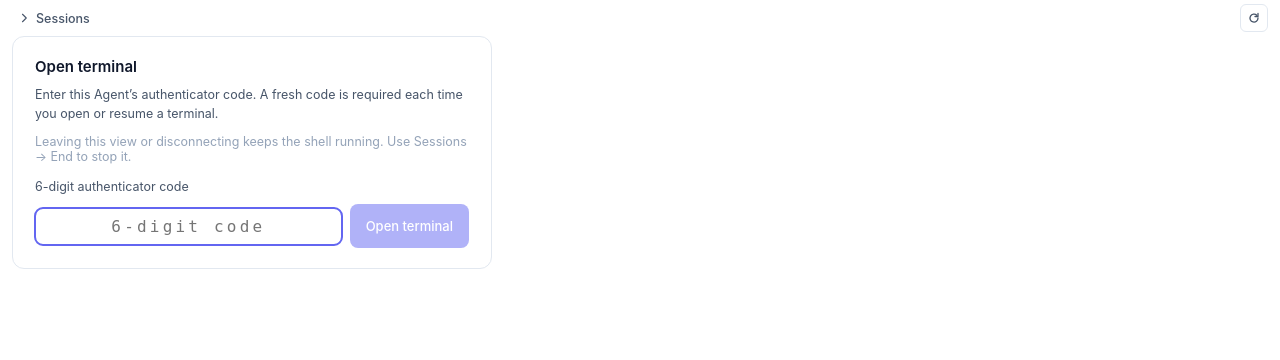
Terminal session recovery › reports an unconfirmed End without pretending the shell was stopped
Click the button "Sessions": [63, 18] box x1=12 y1=6 x2=1236 y2=30
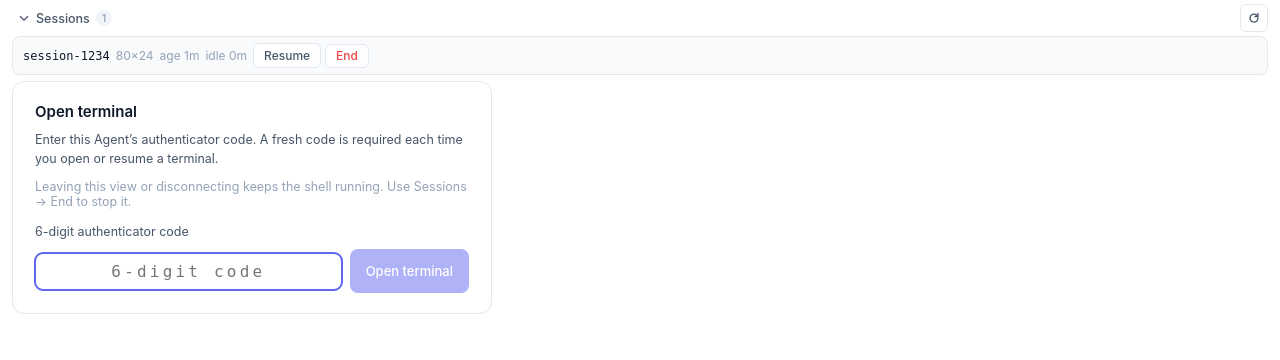
Result: the button "End" is shown
Click the button "End": [347, 56] box x1=325 y1=44 x2=369 y2=68
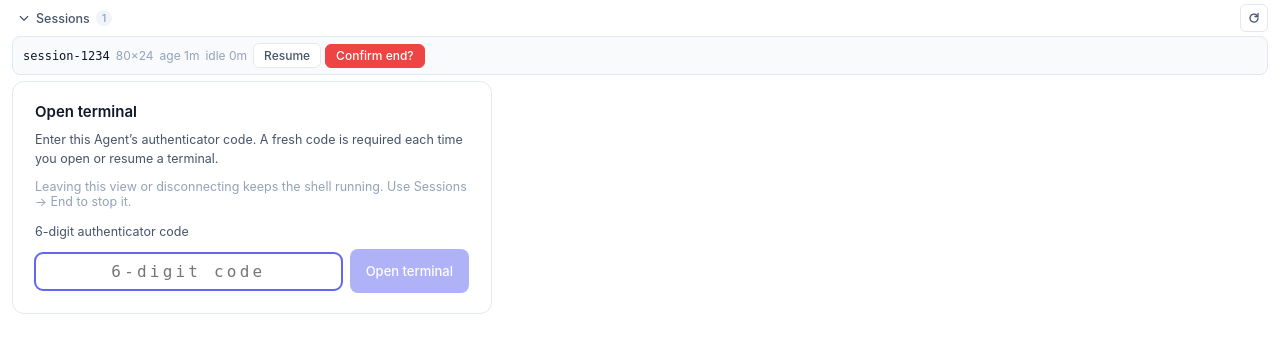
Result: the button "Confirm end?" is shown
Click the button "Confirm end?": [375, 56] box x1=325 y1=44 x2=425 y2=68
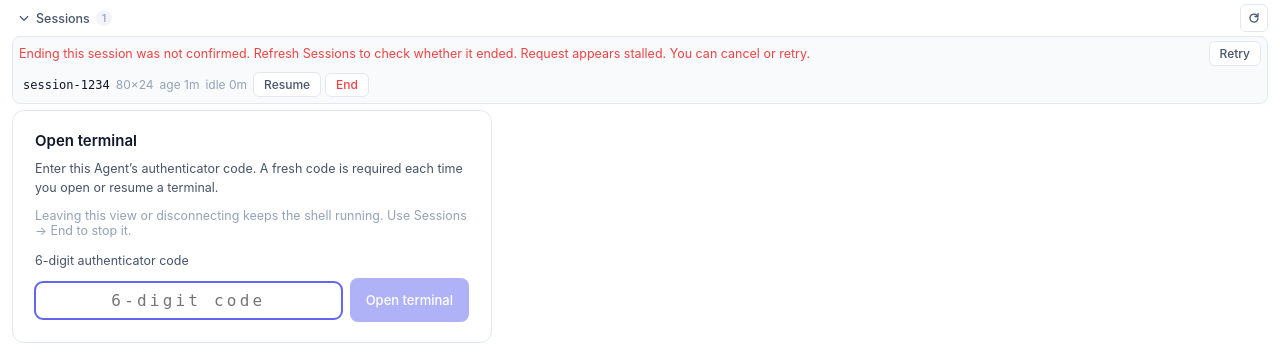
Result: the text "session-1234" is shown at x1=23 y1=78 x2=110 y2=92
Result: the text "Ending this session was not confirmed" is shown at x1=19 y1=46 x2=810 y2=61
Result: the text "Refresh Sessions" is shown at x1=19 y1=46 x2=810 y2=61
